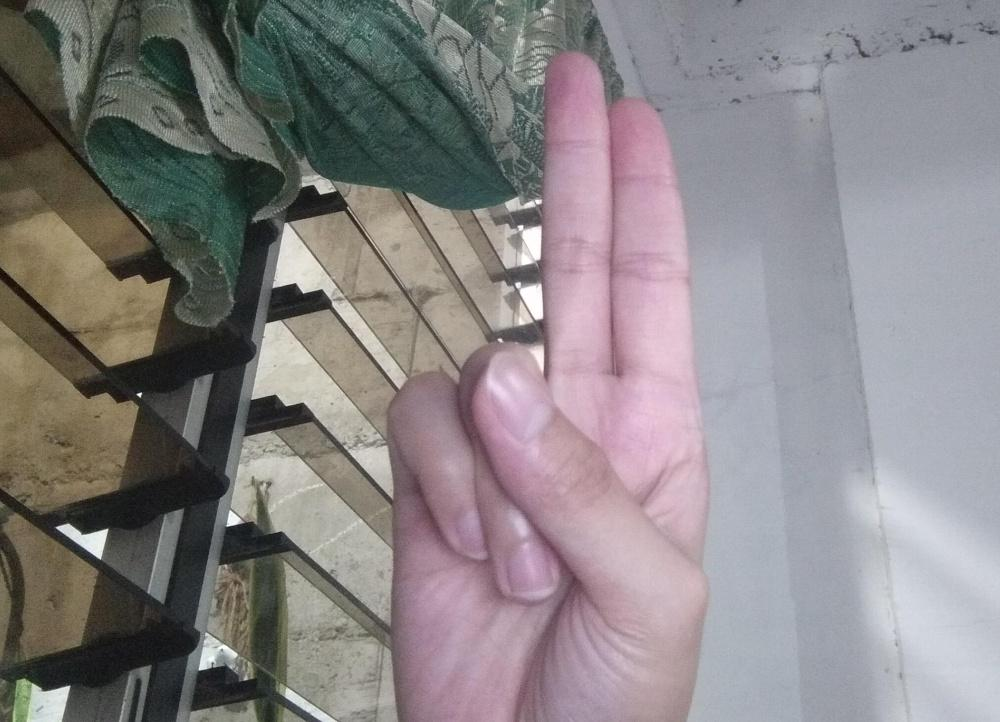u: (381, 46, 711, 721)
